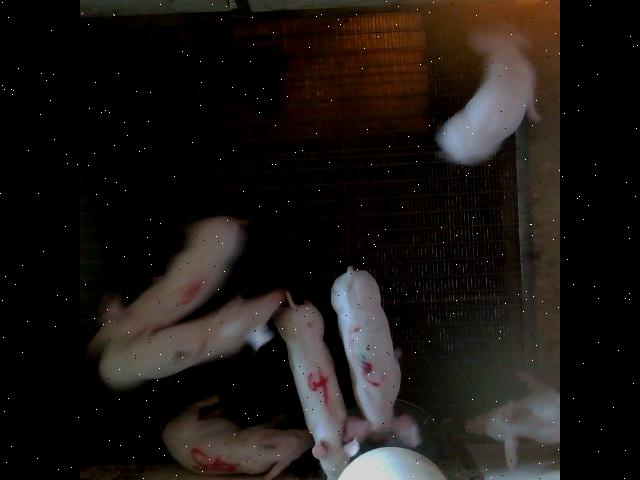pig-1: (88, 215, 246, 358)
pig-2: (99, 289, 285, 391)
pig-3: (331, 266, 420, 446)
pig-4: (274, 291, 359, 480)
pig-5: (161, 392, 314, 479)
